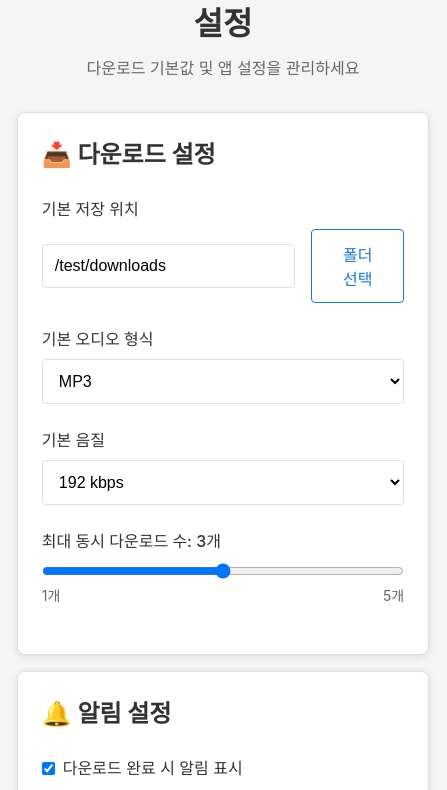
Test: Task 4.3 SettingsView UI Functionality › Real-time Settings Validation › should show validation error for invalid settings
The width and height of the screenshot is (447, 790).
Select "WAV" in the dropdown labelled "기본 오디오 형식" at (223, 382), box [42, 359, 404, 404]
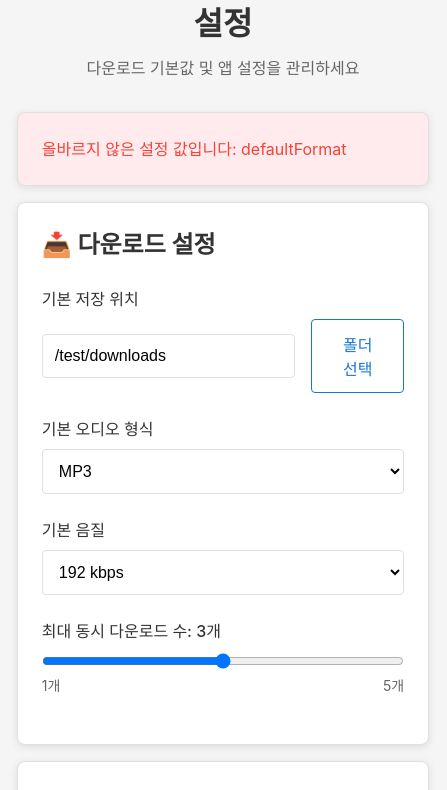
Expected: the text "올바르지 않은 설정 값입니다: defaultFormat" is shown, [17, 112, 429, 186]
